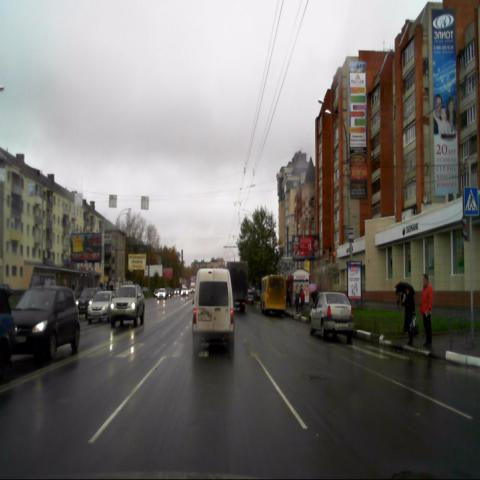5_19_1: (464, 187, 478, 216)
